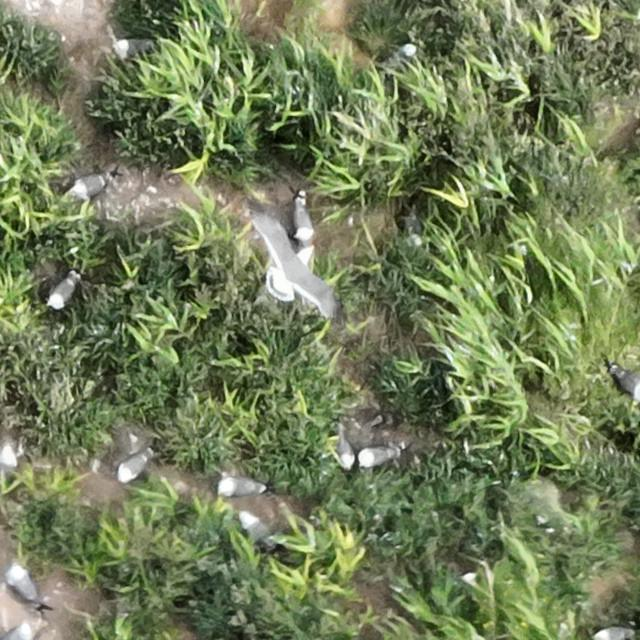F: (258, 230, 329, 312)
umineko: (6, 564, 41, 608), (242, 510, 271, 546), (48, 275, 77, 309), (71, 175, 110, 197), (118, 453, 148, 481), (219, 477, 261, 496), (614, 369, 640, 399), (115, 38, 153, 57), (294, 201, 311, 242), (384, 43, 415, 63), (360, 448, 392, 467), (338, 437, 356, 468), (596, 626, 629, 640)
